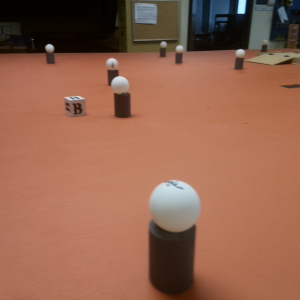obstacle: (148, 177, 200, 295), (110, 76, 133, 119), (104, 56, 121, 75), (44, 43, 57, 65), (235, 48, 245, 69), (175, 44, 184, 65), (159, 41, 167, 59), (262, 39, 268, 53)
slope: (246, 53, 292, 66)
